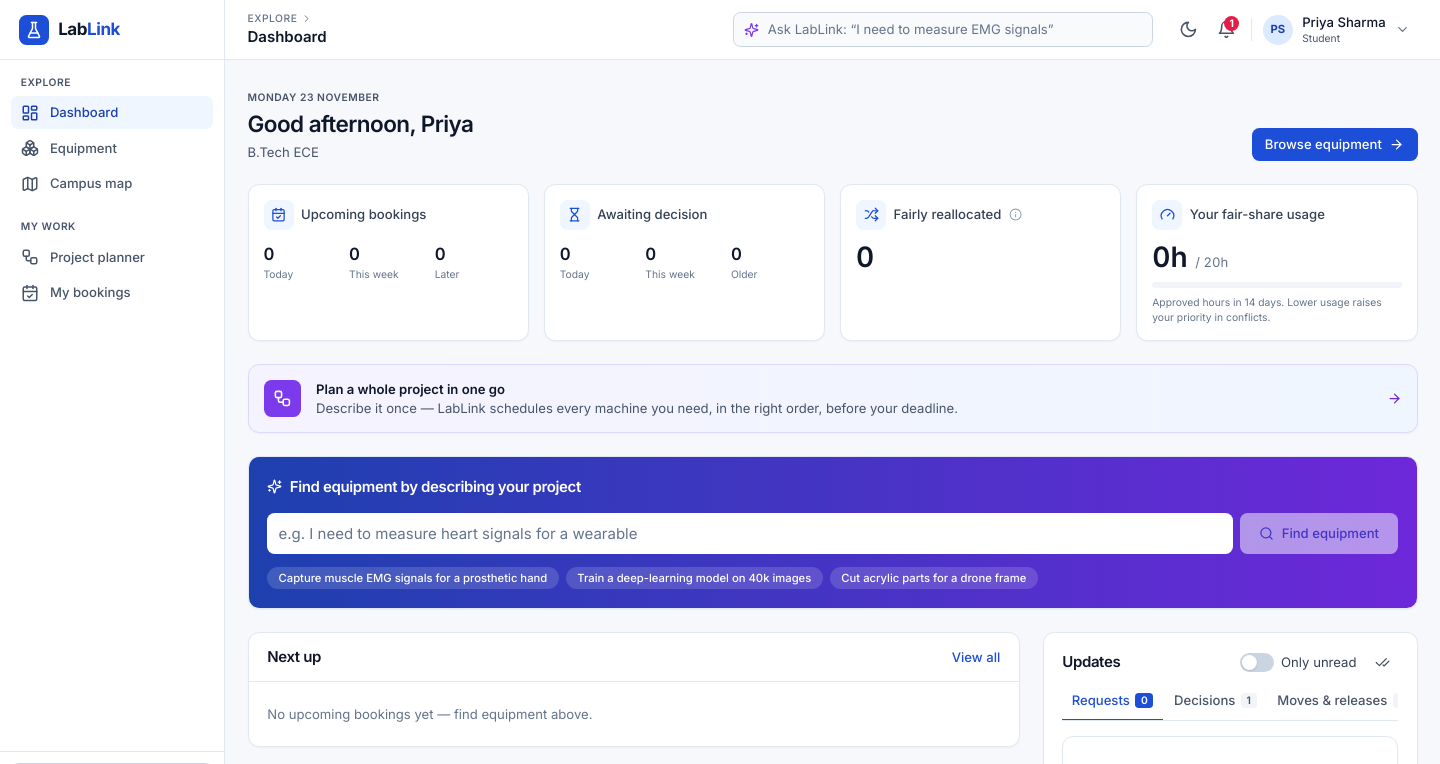
Test case: role-aware shell › shows unread alerts in the notifications panel
Click the button named "Notifications, 1 unread" at (1226, 30), box [1209,13,1243,46]
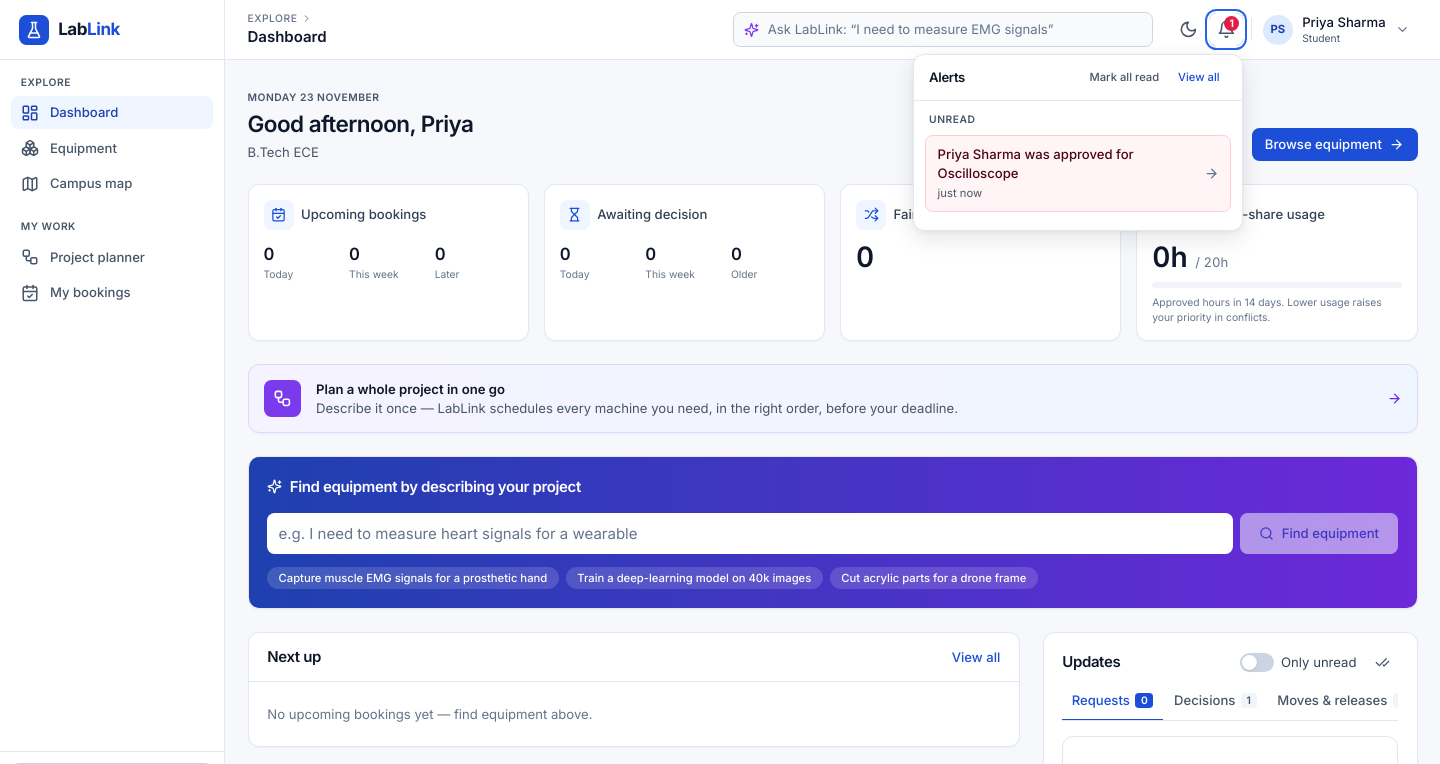
Check: the text "Priya Sharma was approved for Oscilloscope" is shown, box [938,146,1134,181]
Press Escape
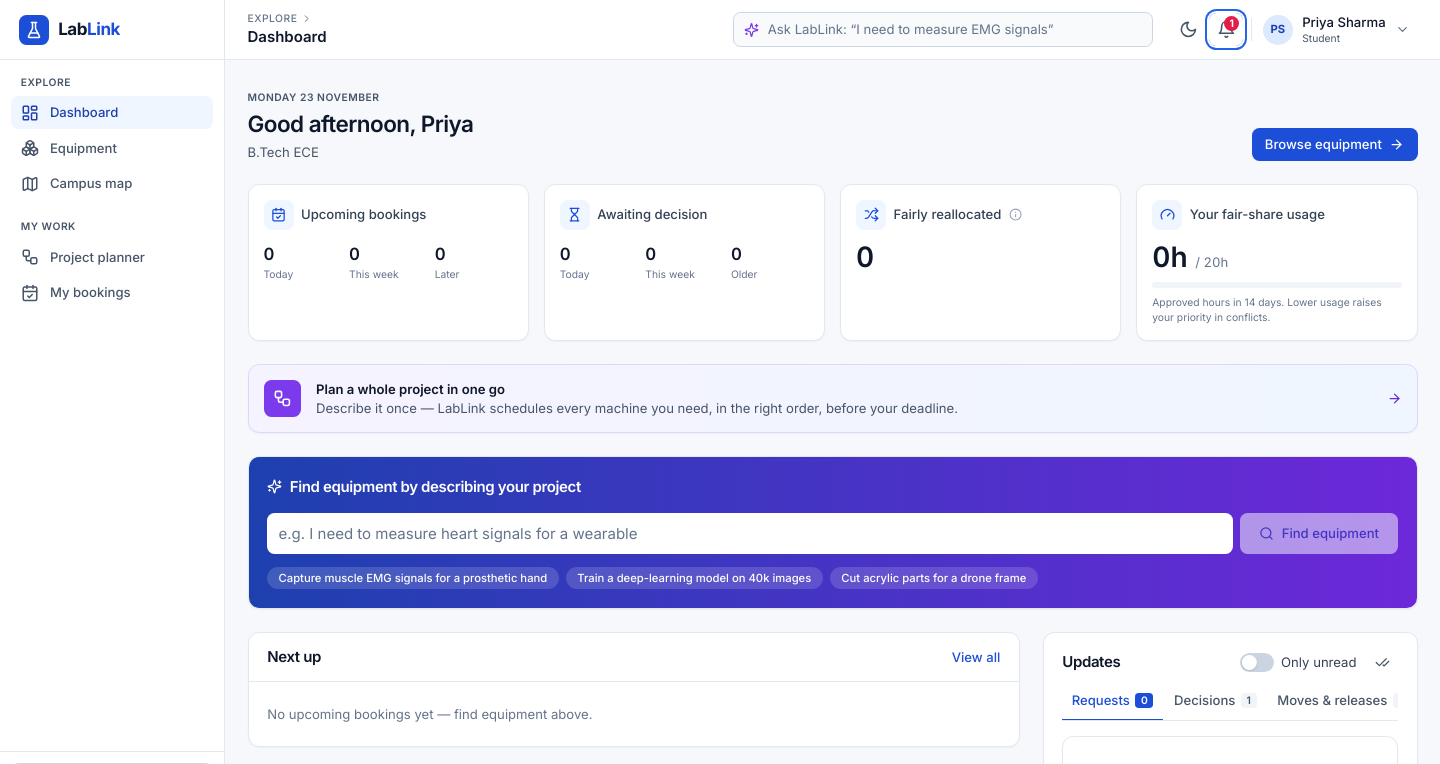
Check: the dialog "Notifications" is gone
